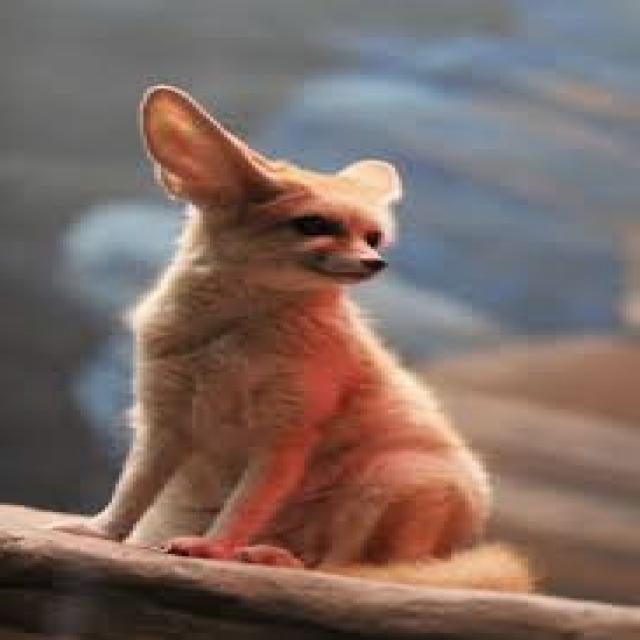fox: (59, 86, 532, 589)
